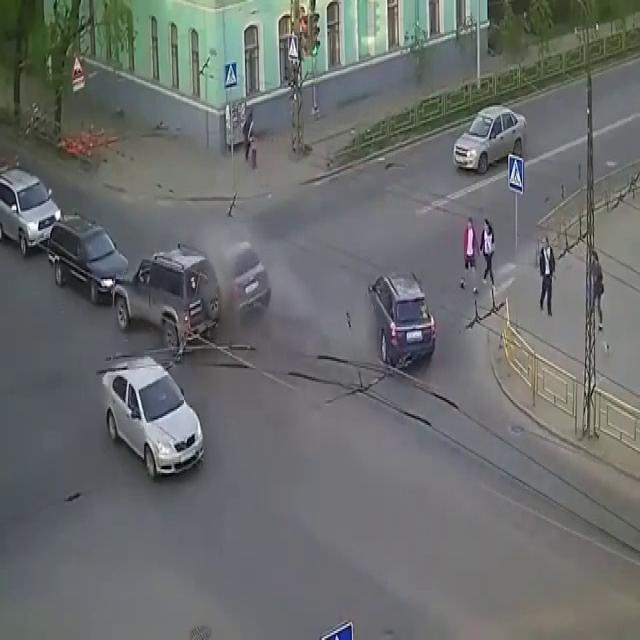multiple_accident: (124, 243, 293, 357)
